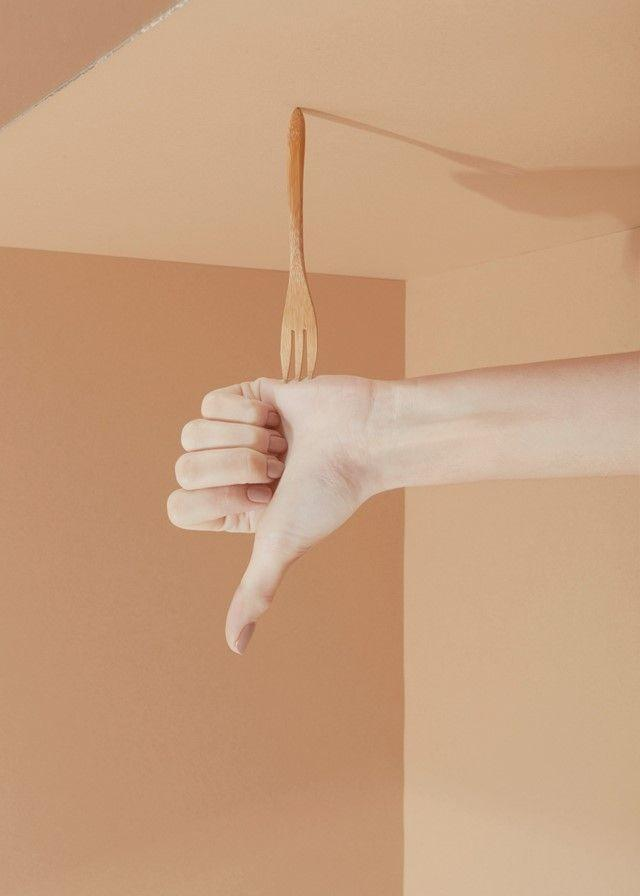thumbsdown: (165, 374, 299, 659)
